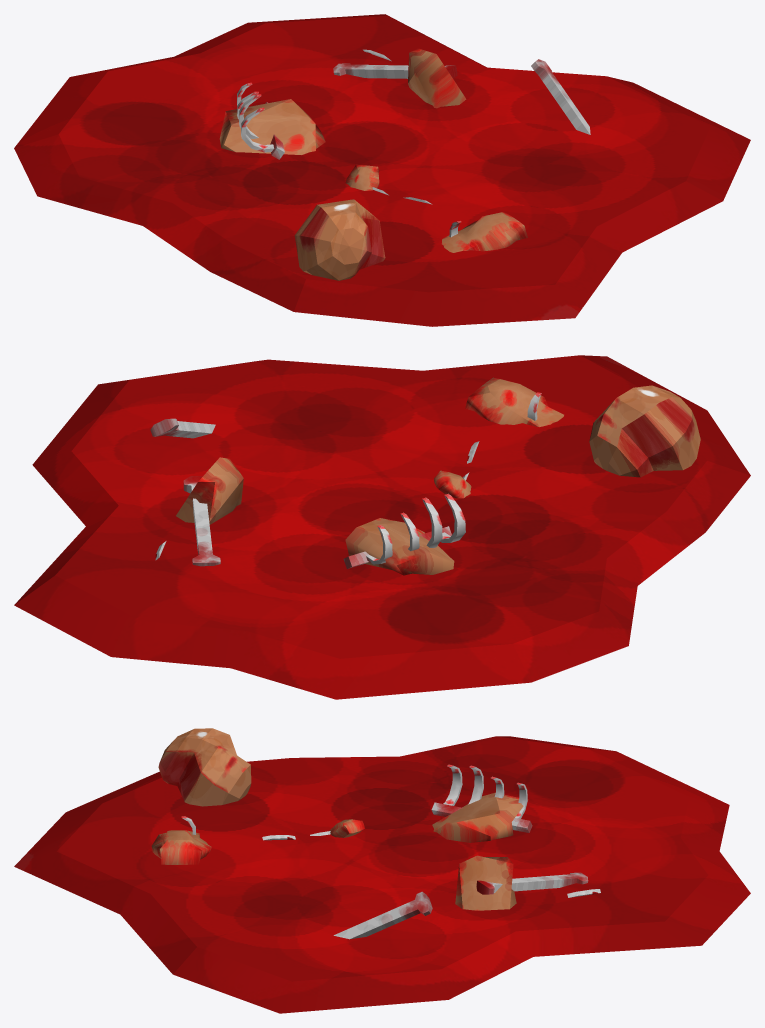
File: GorePile_2.fbx
The picture shows the model from 3 angles, top to bottom: view 1: azimuth 30°, elevation 25°; view 2: azimuth 150°, elevation 25°; view 3: azimuth 270°, elevation 25°; orthographic projection. The views are drawn at different scales.
Visible parts, largest first — view 1: polySurface1; view 2: polySurface1; view 3: polySurface1.
Boxes of the visible parts, x1,y1,x2,y2 form: polySurface1: [14, 14, 750, 326]; polySurface1: [14, 355, 750, 699]; polySurface1: [14, 728, 750, 1013].
Bounding box in the file's own units: 3.31 × 0.5877 × 3.72.
